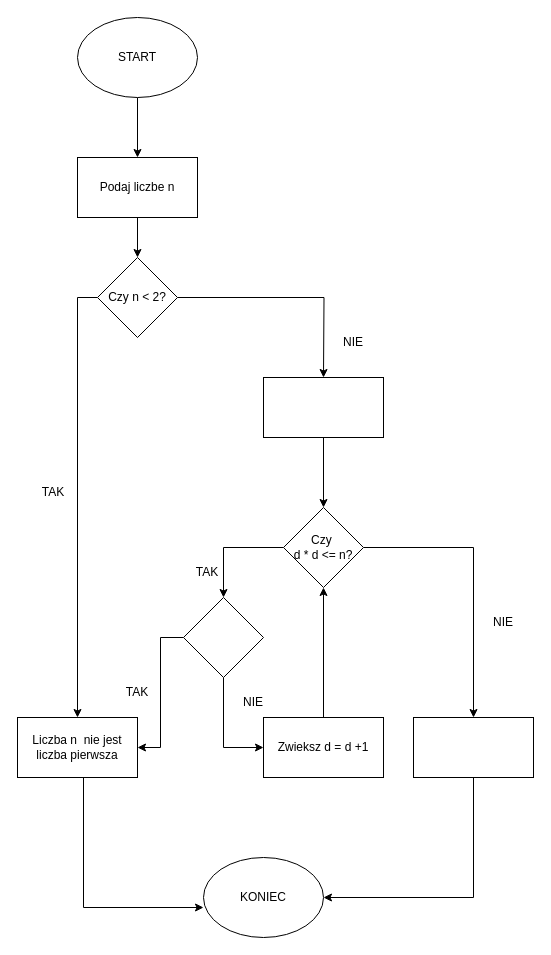
This 551x955 diagram has some shape labels left out. Each missing label, with the centre of its shape:
"Czy n%d == 0?" goes at pixel 223 637.
"n jest liczba pierwsza" goes at pixel 473 747.
"Ustaw d = 2" goes at pixel 323 407.
